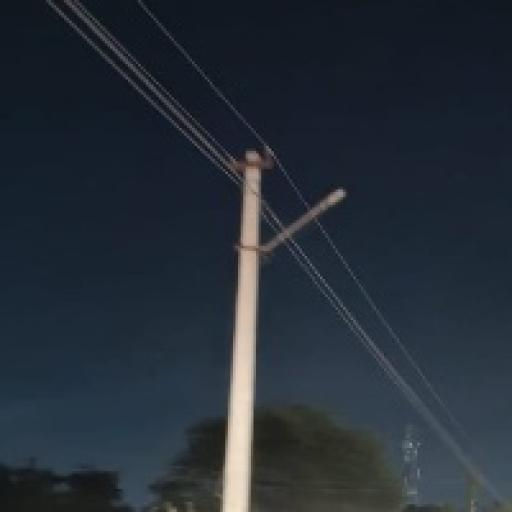Not Working: (297, 179, 359, 224)
